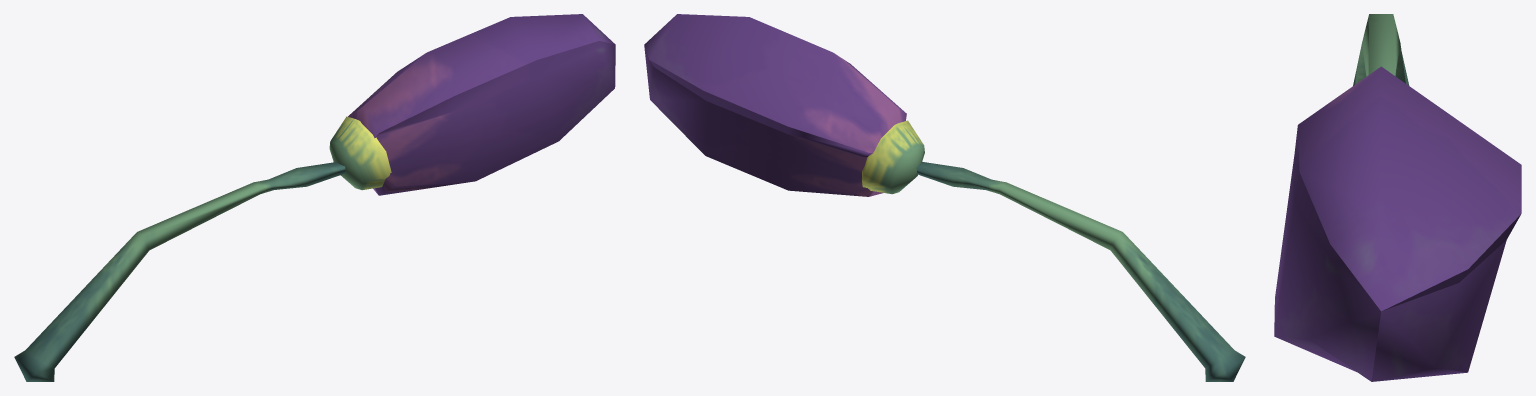
File: bud_flowerPurple.fbx
3 views of the same model, side by side, from view 1: azimuth 30°, elevation 25°; view 2: azimuth 150°, elevation 25°; view 3: azimuth 270°, elevation 25° (orthographic). The views are drawn at different scales.
Visible parts, largest first — view 1: bud_flowerPurple; view 2: bud_flowerPurple; view 3: bud_flowerPurple.
Boxes of the visible parts, <box> form: bud_flowerPurple: <box>14,14,615,381</box>; bud_flowerPurple: <box>644,14,1245,381</box>; bud_flowerPurple: <box>1274,14,1521,381</box>.
Size of the model in its own units: 0.5512 by 0.2202 by 0.1066.
